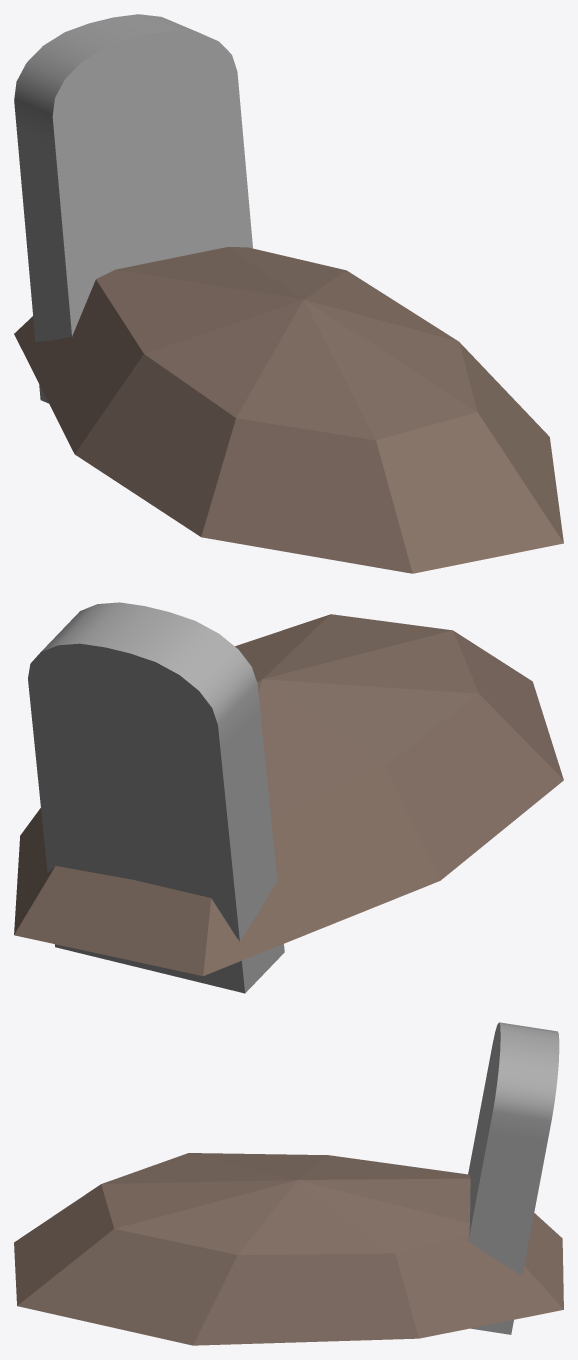
The model's file is Grave04.fbx.
3 views of the same model, one above another, from view 1: azimuth 30°, elevation 25°; view 2: azimuth 150°, elevation 25°; view 3: azimuth 270°, elevation 25° (orthographic). The views are drawn at different scales.
Visible parts, largest first — view 1: Grave2; view 2: Grave2; view 3: Grave2.
Part boxes in pixels (x1,y1,x2,y2): Grave2: (14,14,563,573); Grave2: (14,602,563,993); Grave2: (14,1022,563,1345).
Bounding box in the file's own units: 0.3097 × 0.2706 × 0.5108.
